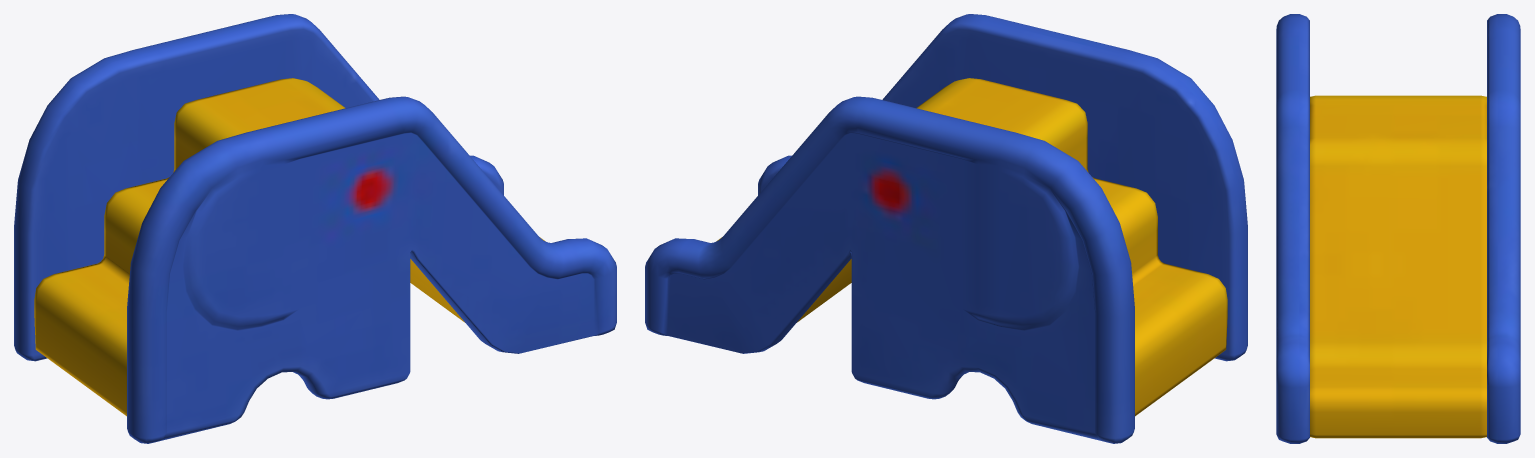
3 renders of one model, left to right at view 1: azimuth 30°, elevation 25°; view 2: azimuth 150°, elevation 25°; view 3: azimuth 270°, elevation 25°, orthographic. The views are drawn at different scales.
Size of the model in its own units: 16.18 by 8.97 by 7.76.
1 material, 1 textured.
